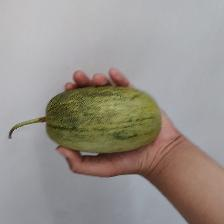gua: (45, 94, 159, 148)
